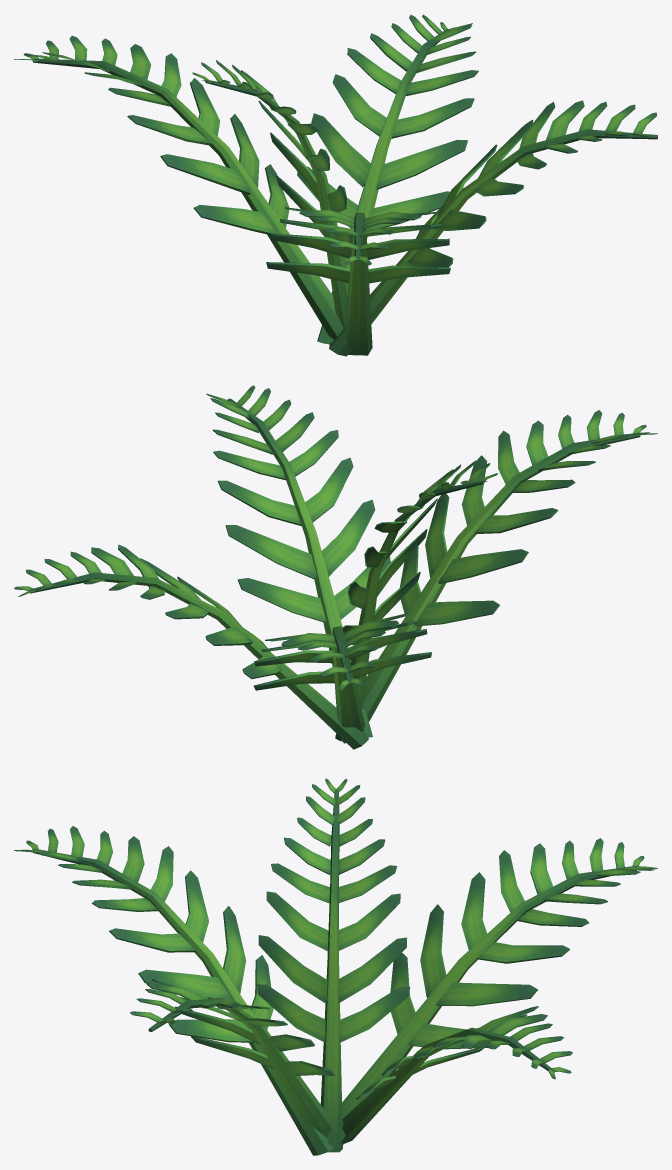
Rendered from plant_1.fbx.
The picture shows the model from 3 angles, top to bottom: view 1: azimuth 30°, elevation 25°; view 2: azimuth 150°, elevation 25°; view 3: azimuth 270°, elevation 25°; orthographic projection. The views are drawn at different scales.
Visible parts, largest first — view 1: fern; view 2: fern; view 3: fern.
Part boxes in pixels (box(x1,y1,x2,y2)): fern: box(14, 14, 657, 356); fern: box(14, 385, 657, 749); fern: box(14, 778, 657, 1155).
Bounding box in the file's own units: 83.37 × 61.11 × 118.
Materials: 1 (1 with a texture image).
